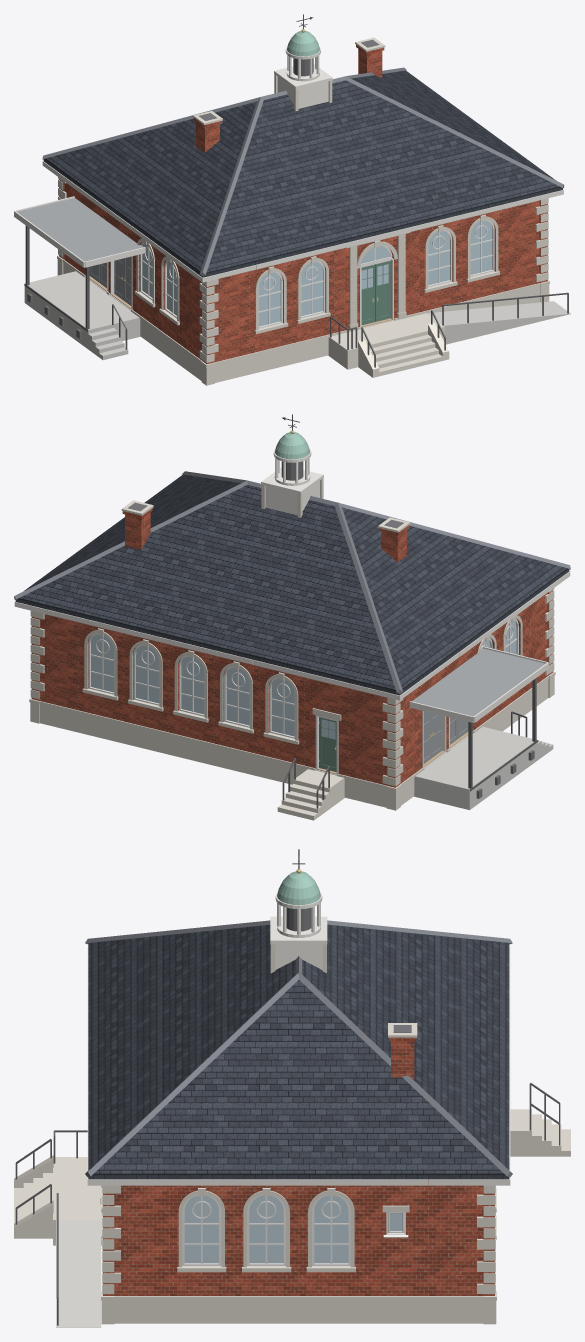
The model's file is building_assembled.glb.
The picture shows the model from 3 angles, top to bottom: view 1: azimuth 30°, elevation 25°; view 2: azimuth 150°, elevation 25°; view 3: azimuth 270°, elevation 25°; orthographic projection. The views are drawn at different scales.
Parts seen in each view (by area): view 1: building_shingle, building_brick, building_lime, building_concrete, building_trim, building_glass, building_roofm, building_frame, building_ridge, building_iron, building_door, building_door_dock (+2 smaller); view 2: building_shingle, building_brick, building_lime, building_trim, building_glass, building_concrete, building_roofm, building_ridge, building_frame, building_iron, building_door_dock, building_dark (+2 smaller); view 3: building_shingle, building_brick, building_lime, building_trim, building_glass, building_ridge, building_concrete, building_frame, building_iron, building_copper, building_dark.
Boxes of the visible parts, x1,y1,x2,y2 form: building_shingle: (43,70,562,277); building_brick: (59,45,547,364); building_lime: (57,37,549,385); building_concrete: (24,271,570,359); building_trim: (14,47,563,282); building_glass: (142,220,492,326); building_roofm: (17,198,143,261); building_frame: (107,219,494,328); building_ridge: (42,67,564,276); building_iron: (24,225,568,367); building_door: (361,260,390,324); building_door_dock: (89,256,131,305); building_shingle: (15,474,569,695); building_brick: (31,508,553,787); building_lime: (29,478,555,820); building_trim: (14,449,570,722); building_glass: (91,620,516,738); building_concrete: (414,726,553,810); building_roofm: (412,648,545,716); building_ridge: (14,471,570,693); building_frame: (88,619,518,773); building_iron: (282,678,538,808); building_door_dock: (423,711,468,763); building_dark: (128,461,534,798); building_shingle: (88,924,509,1179); building_brick: (103,1037,494,1295); building_lime: (14,944,570,1324); building_trim: (87,892,510,1237); building_glass: (184,1195,402,1263); building_ridge: (85,920,512,1177); building_concrete: (56,1220,101,1327); building_frame: (182,1195,405,1265); building_iron: (15,1083,560,1325); building_copper: (277,871,320,905); building_dark: (286,908,411,1032).
Bounding box in the file's own units: 19.47 × 12.42 × 17.2.
Materials: 22 (3 with a texture image).
